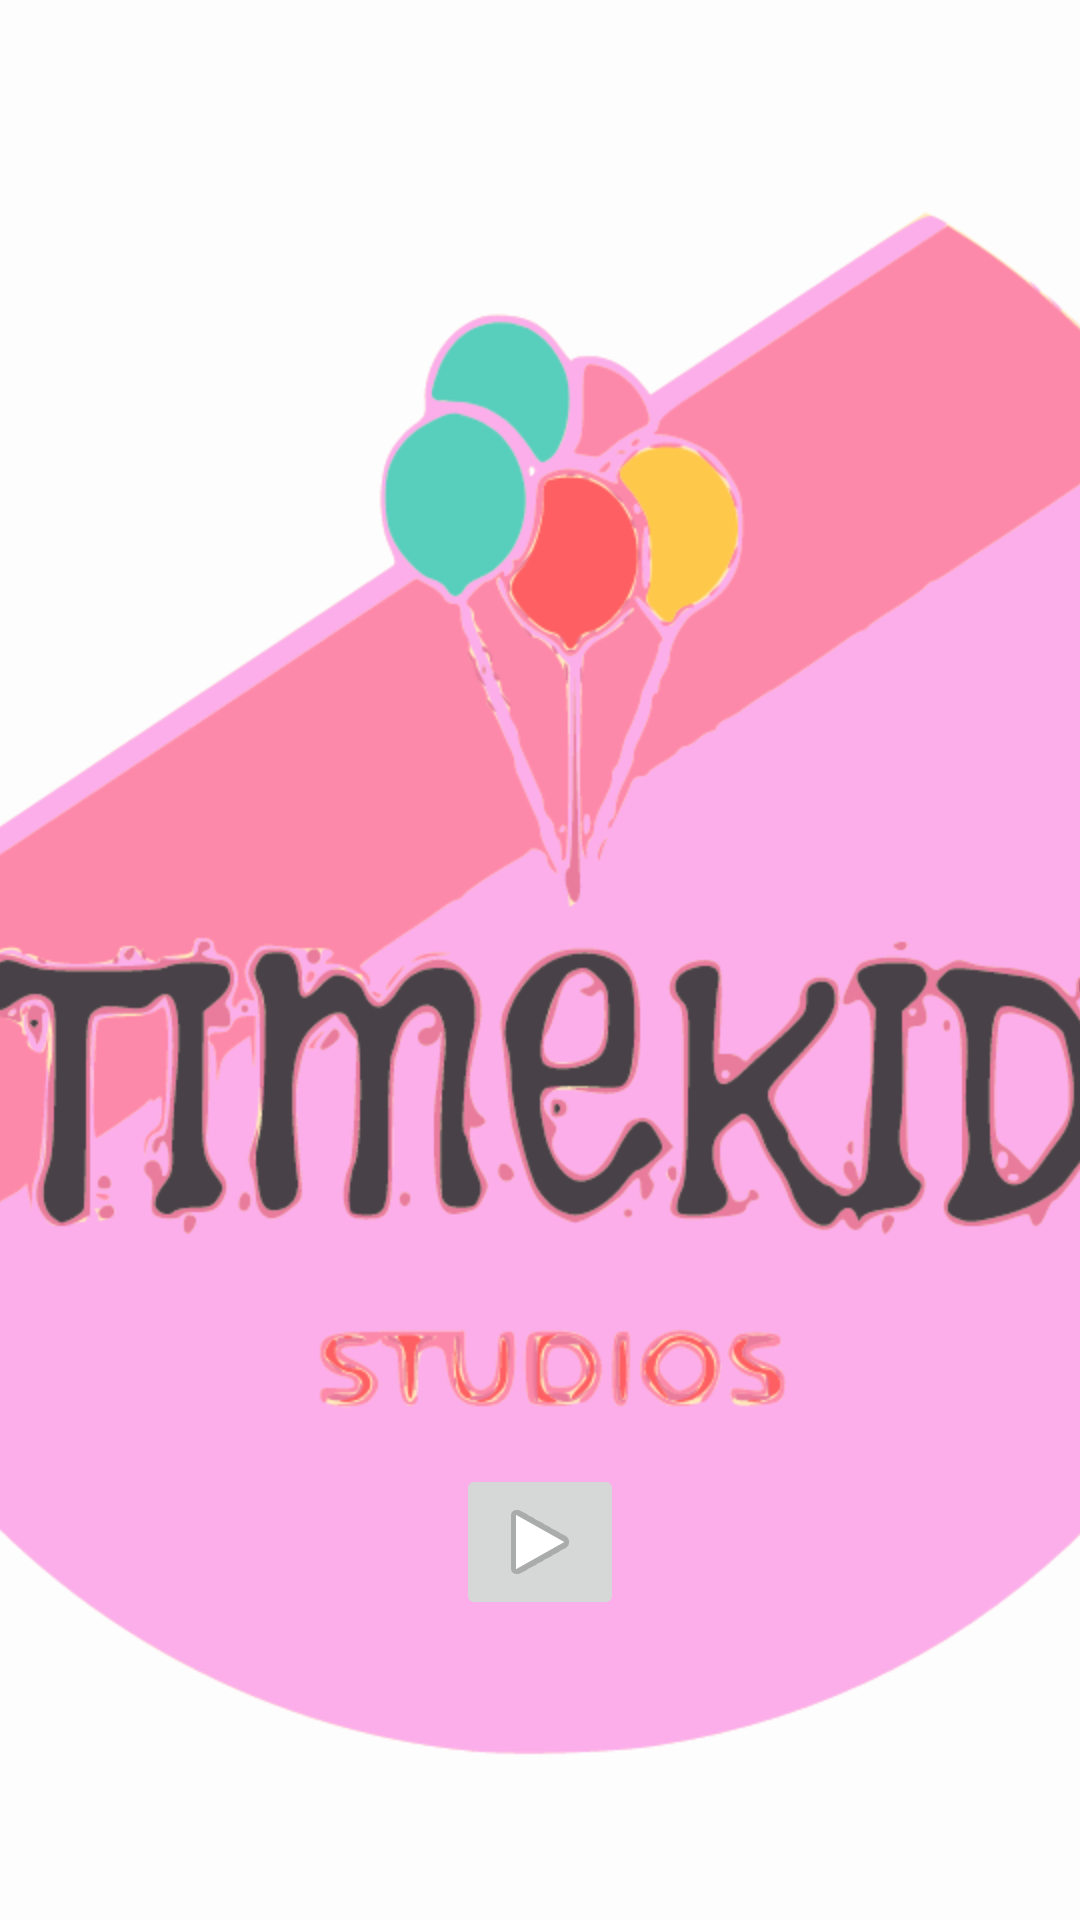

Where icons sit on this 1080x1920 app screen, as {"left": x1, "top": y1, "right": x2, "bottom": y2}:
play: {"left": 468, "top": 1482, "right": 612, "bottom": 1602}
